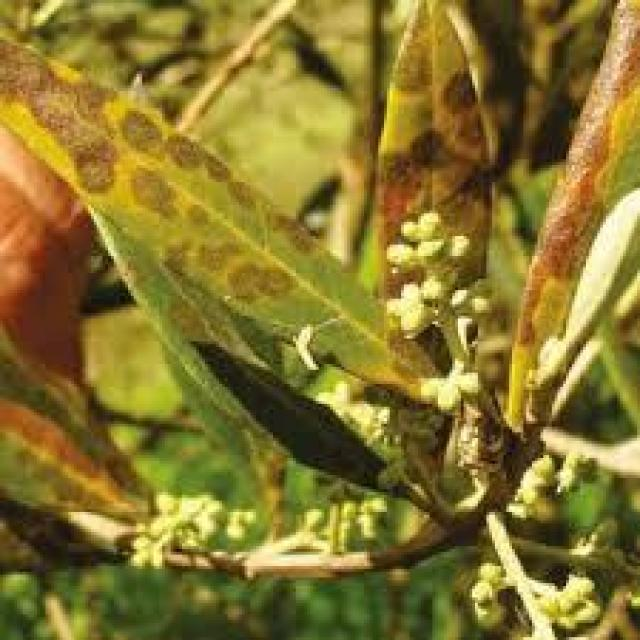Peacock Eye: (0, 40, 455, 415), (506, 0, 637, 427)
